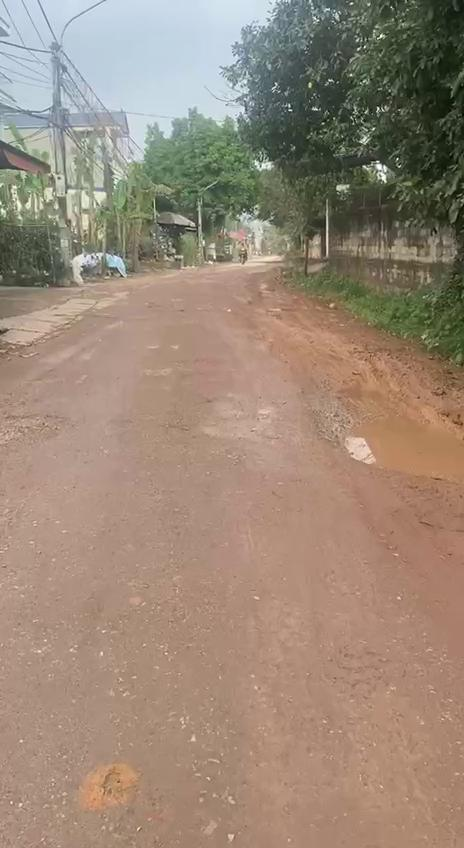pothole: (313, 412, 464, 488), (0, 410, 75, 449)
